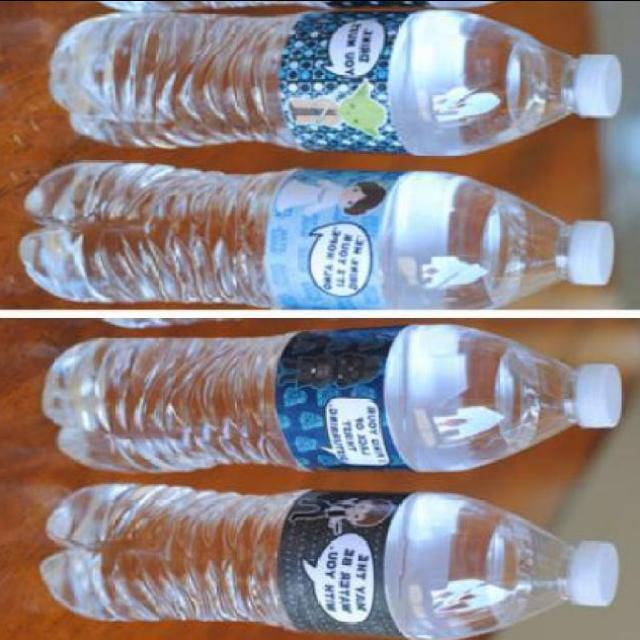plastik: (41, 484, 619, 639), (21, 162, 614, 309), (43, 324, 622, 471), (50, 9, 622, 155)
